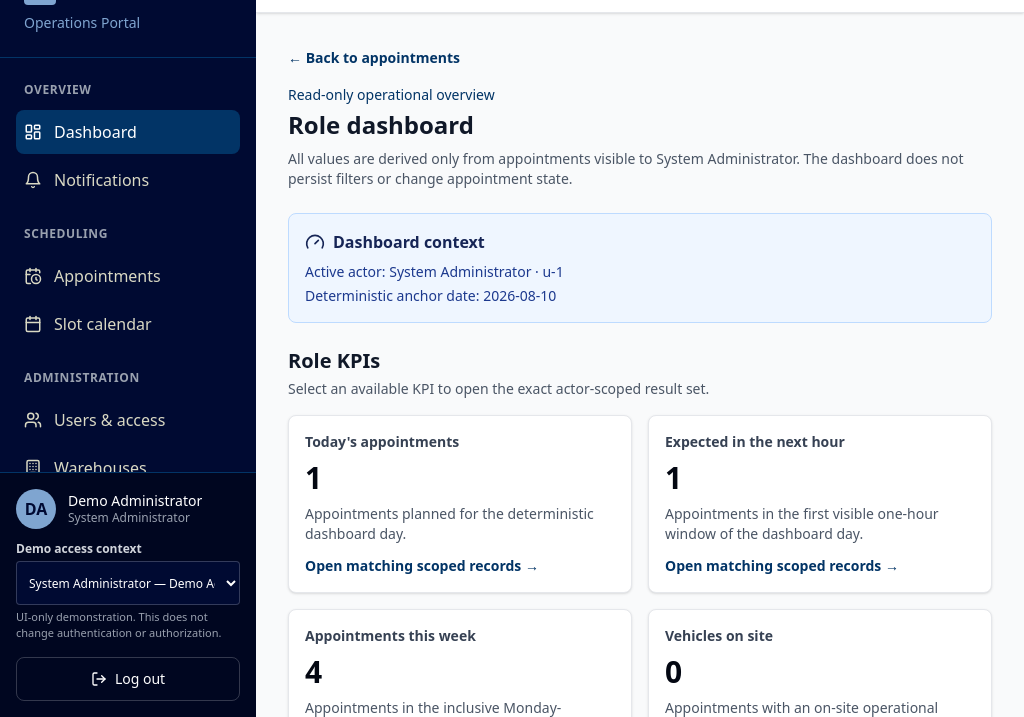
Test: dashboard AppRoutes integration › keeps /dashboard available and gate-safe for Security Officer
Check: the text "Active actor: System Administrator · u-1" is shown, box [305,262,564,281]
Select "Security Officer — Charlie Davis" in the dropdown labelled "Demo access context": x=128, y=583 [16,561,240,605]
(page scrolled)
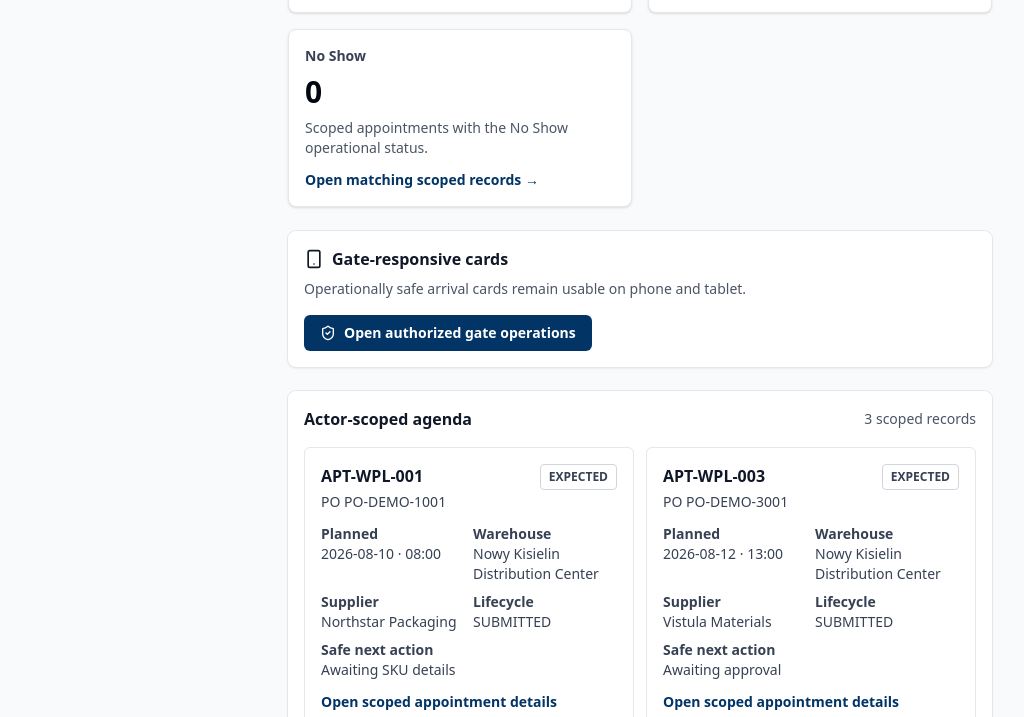
Check: the link "Open authorized gate operations" is shown, box [304,315,592,351]
